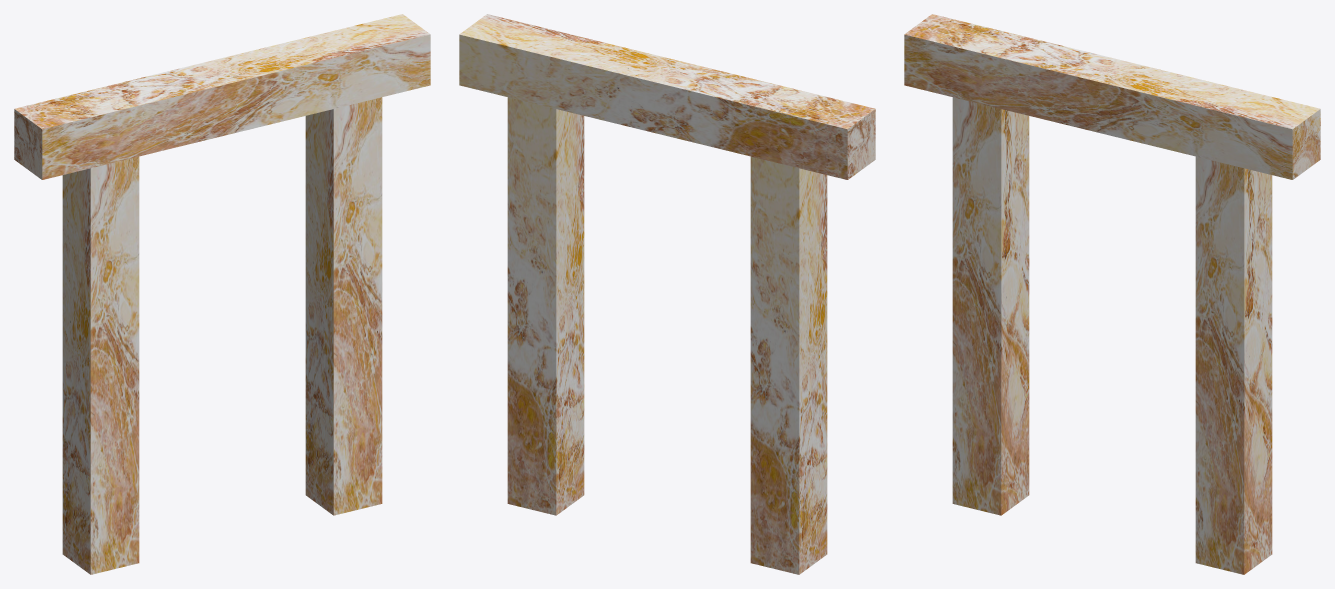
Rendered from portale1.gltf.
3 views of the same model, side by side, from view 1: azimuth 30°, elevation 25°; view 2: azimuth 150°, elevation 25°; view 3: azimuth 330°, elevation 25° (orthographic).
Visible parts, largest first — view 1: portale; view 2: portale; view 3: portale.
Part boxes in pixels (x1=…): portale: x1=14, y1=14, x2=430, y2=574; portale: x1=459, y1=14, x2=875, y2=574; portale: x1=904, y1=14, x2=1320, y2=574.
Size of the model in its own units: 16 by 18 by 2.
Materials: 3 (3 with a texture image).
